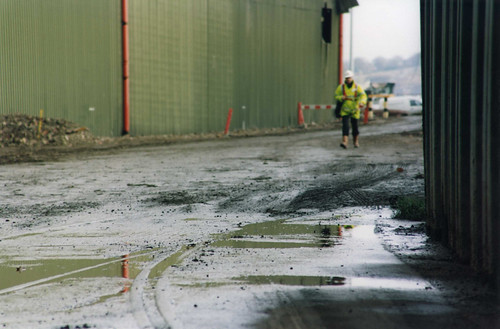person hardhat: (331, 70, 375, 158)
